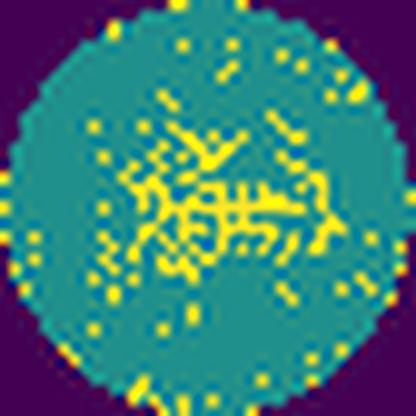Center: (122, 123, 305, 284)
